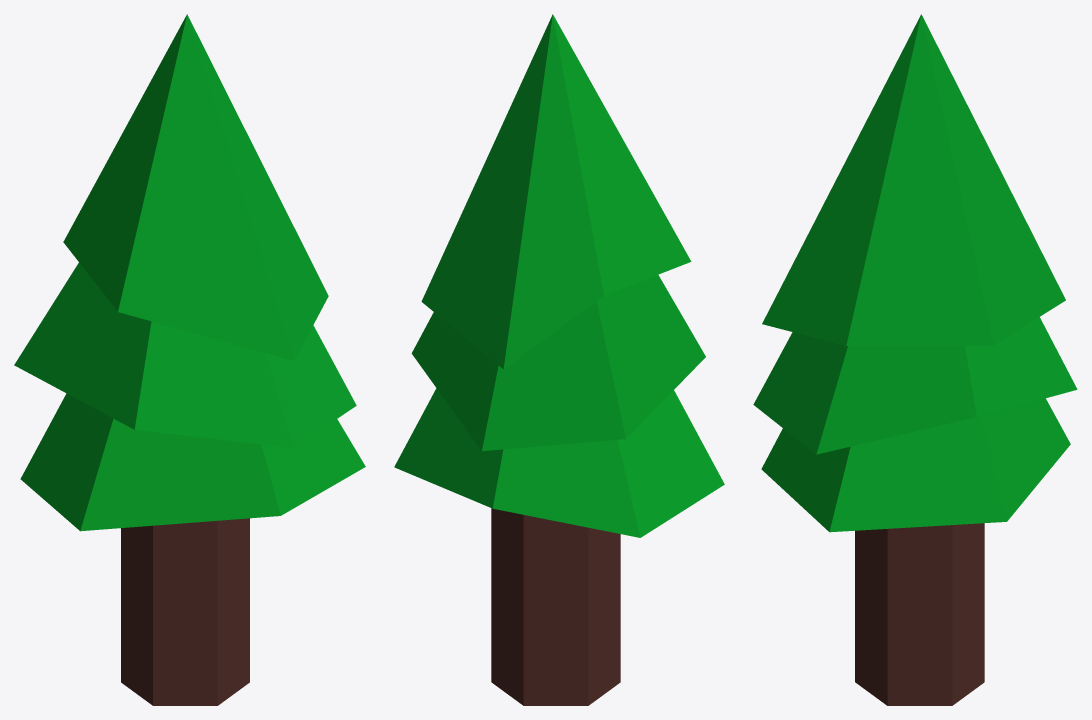
Rendered from Tree.glb.
3 renders of one model, left to right at view 1: azimuth 30°, elevation 25°; view 2: azimuth 150°, elevation 25°; view 3: azimuth 270°, elevation 25°, orthographic.
Visible parts, largest first — view 1: Tree; view 2: Tree; view 3: Tree.
Boxes of the visible parts, box(x1,y1,x2,y2) form: Tree: box(14, 14, 365, 705); Tree: box(394, 14, 724, 705); Tree: box(753, 14, 1077, 705).
Bounding box in the file's own units: 4.72 × 11.05 × 4.85.
